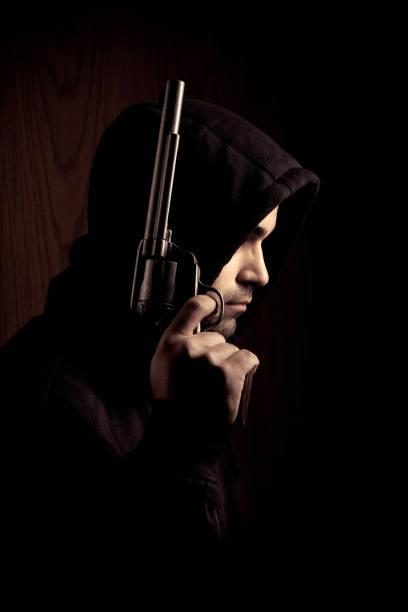weapon: (129, 69, 258, 425)
